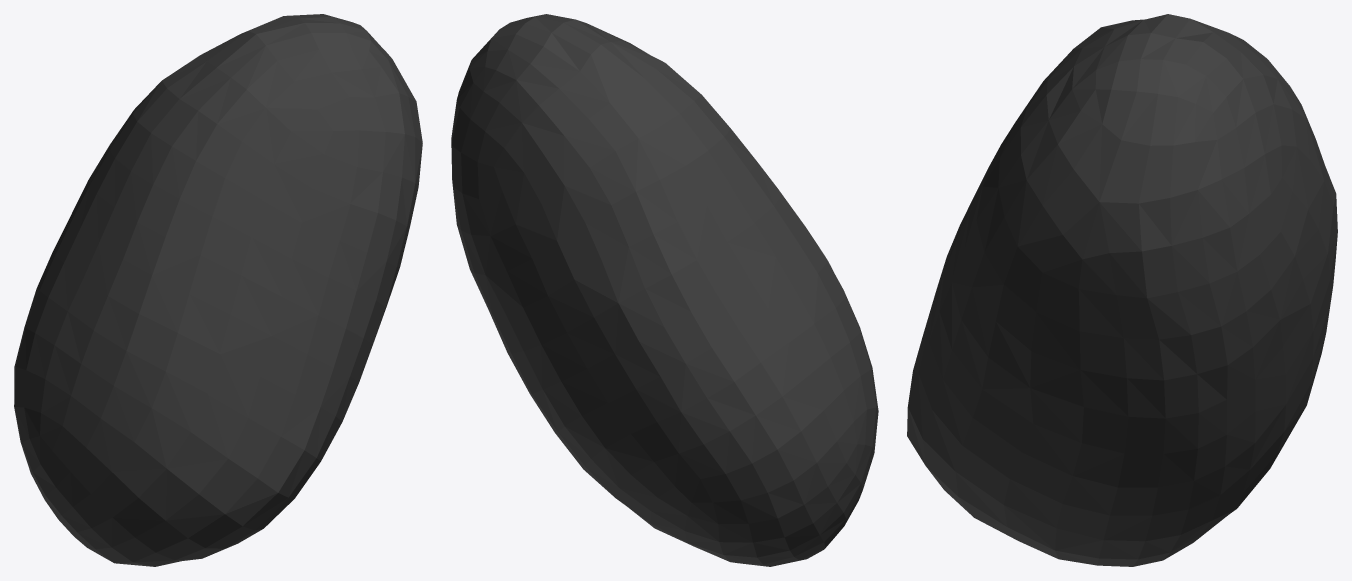
Rendered from dorsal_sesamoid_IV_L.glb.
3 renders of one model, left to right at view 1: azimuth 30°, elevation 25°; view 2: azimuth 150°, elevation 25°; view 3: azimuth 270°, elevation 25°, orthographic. The views are drawn at different scales.
Parts seen in each view (by area): view 1: dorsal_sesamoid_IV_L; view 2: dorsal_sesamoid_IV_L; view 3: dorsal_sesamoid_IV_L.
Part boxes in pixels (<box>): dorsal_sesamoid_IV_L: <box>14,14,422,566</box>; dorsal_sesamoid_IV_L: <box>451,14,878,566</box>; dorsal_sesamoid_IV_L: <box>907,14,1337,566</box>.
Size of the model in its own units: 0.0056 by 0.00685 by 0.00433.
1 material, 1 textured.
